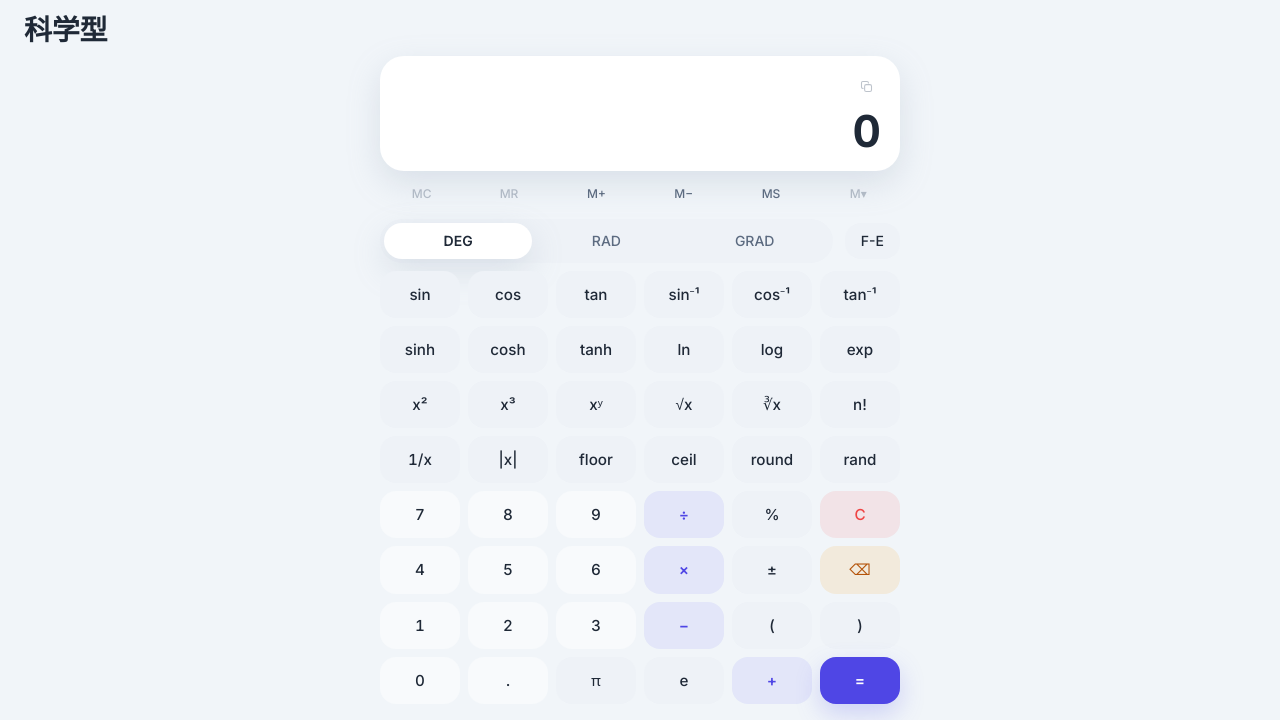
Test: ScientificPage › reports preview mode instead of pretending to calculate
Click the button with aria-label "正弦". click: {"x": 420, "y": 294}
box: [380,271,460,318]
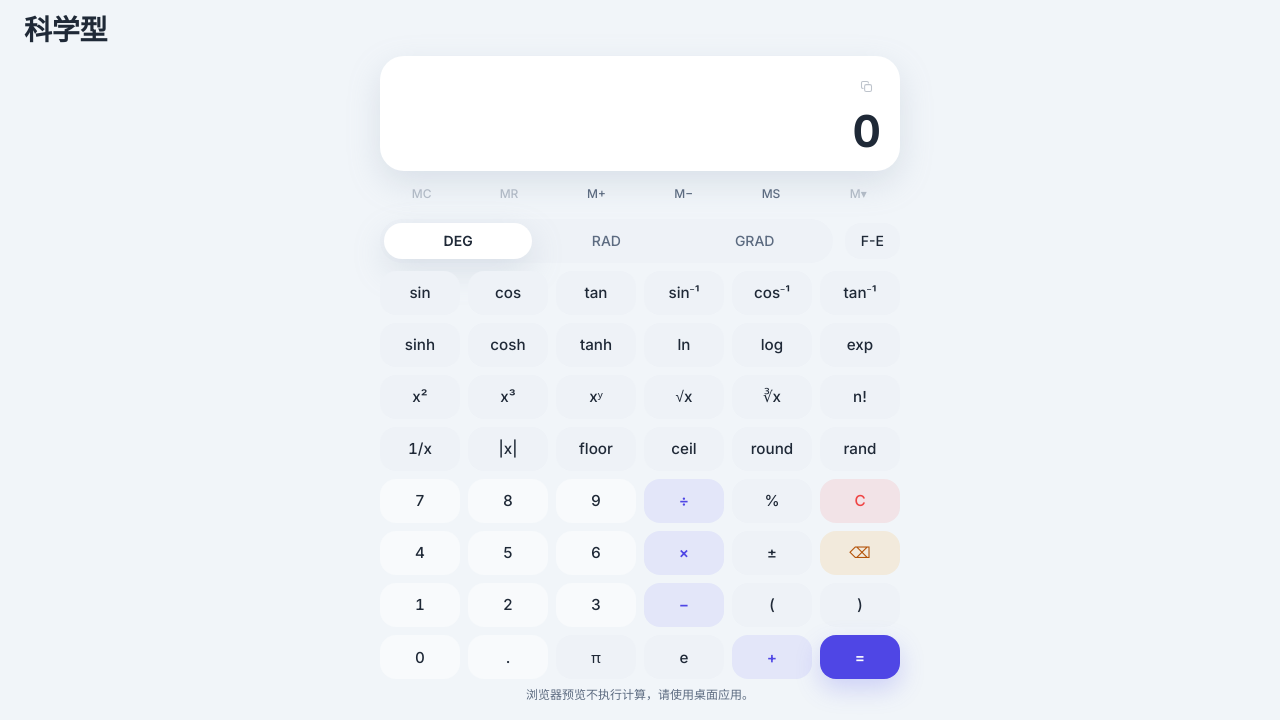
Check: the text "浏览器预览不执行计算，请使用桌面应用。" is shown, box [526,687,754,702]
